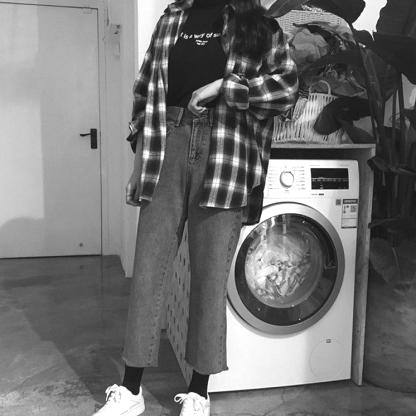dress: (120, 0, 298, 208), (115, 101, 239, 379)
